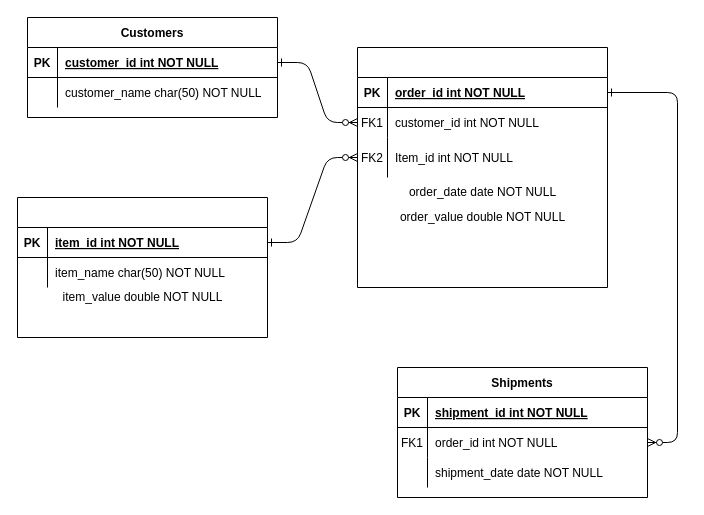
This 704x515 diagram has some shape labels left out. Each missing label, with the box of its shape:
Items: (16, 196, 268, 338)
Orders: (356, 46, 608, 288)
